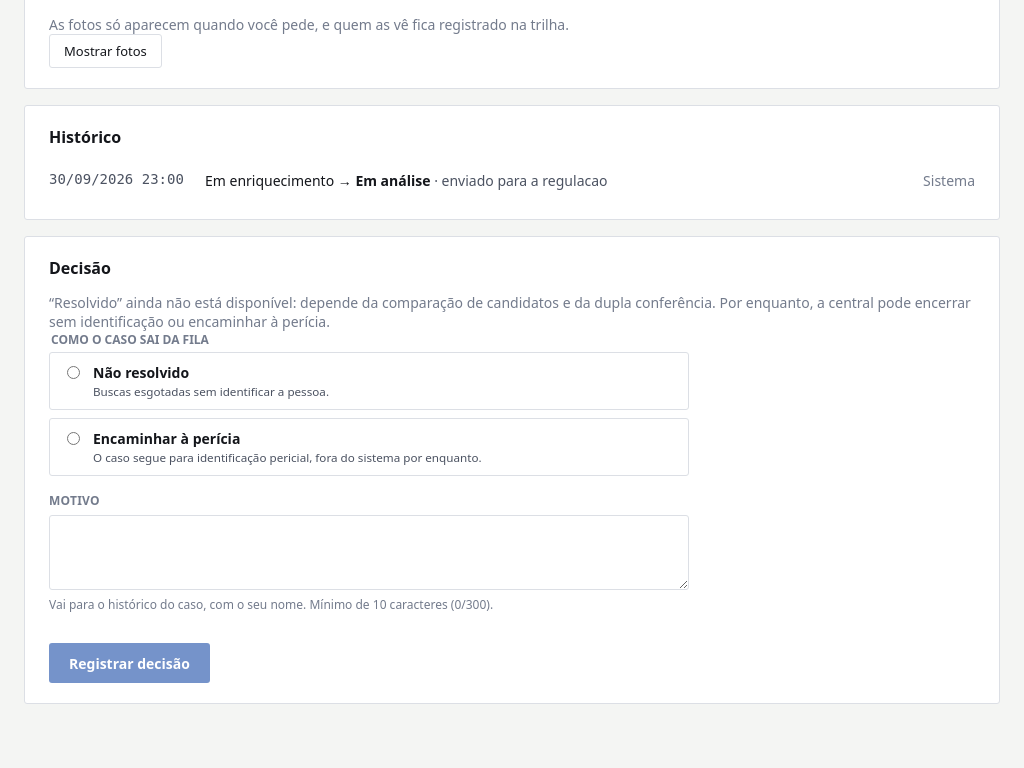
Test: tela do caso: decisão › (!) o botão só libera com decisão escolhida e motivo de pelo menos 10 caracteres
(page scrolled)
Expected: the button "Registrar decisão" is disabled, 49,643 -> 210,683
Click the radio button labelled "Encaminhar à perícia".
click(74, 438)  # box 67,432 -> 80,445
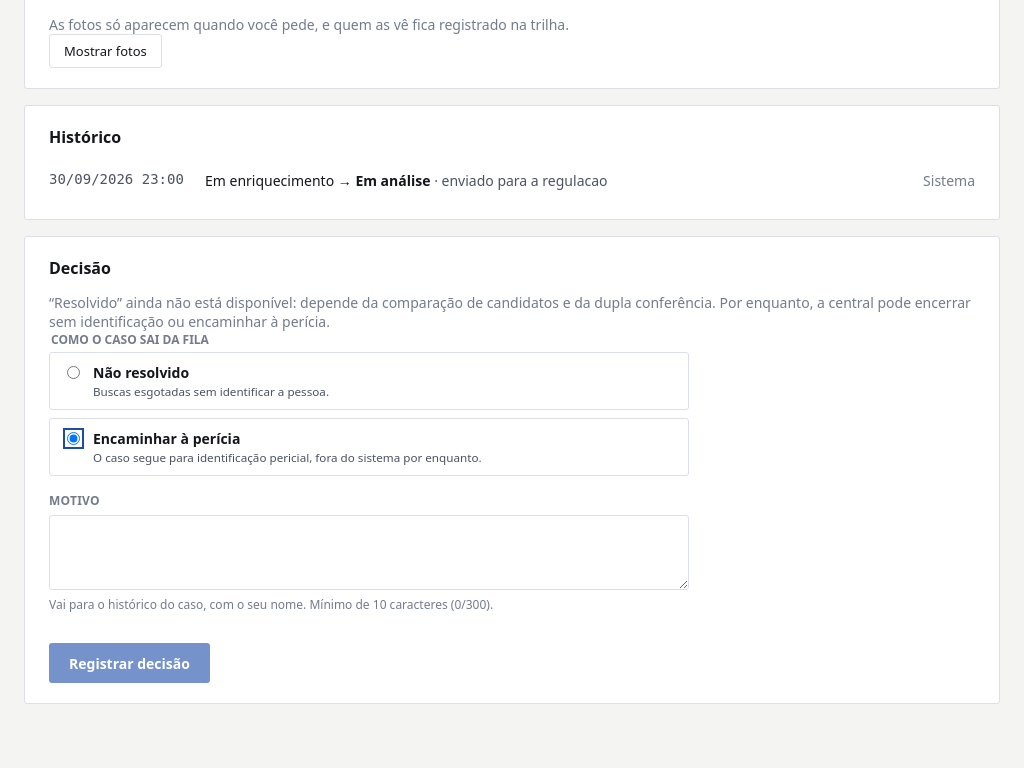
Type "curto" into the text box labelled "Motivo".
click(369, 552); type("curto")  # box 49,515 -> 689,590
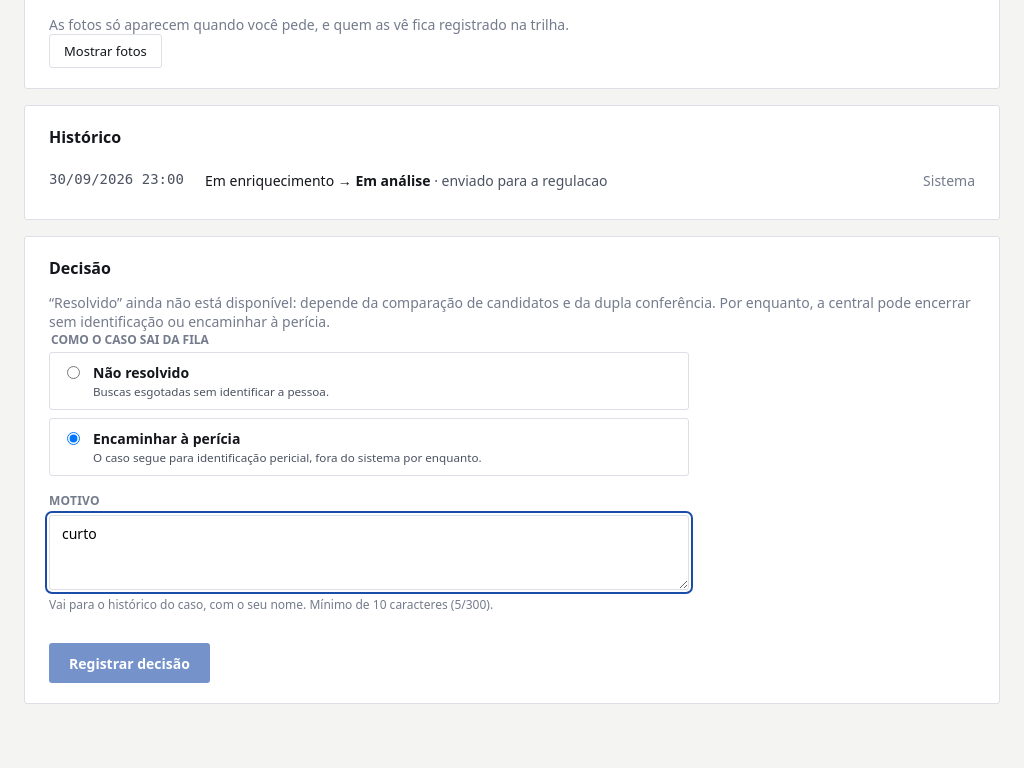
Expected: the button "Registrar decisão" is disabled, 49,643 -> 210,683
Type " demais, agora sim" into the text box labelled "Motivo".
click(369, 552); type(" demais, agora sim")  # box 49,515 -> 689,590
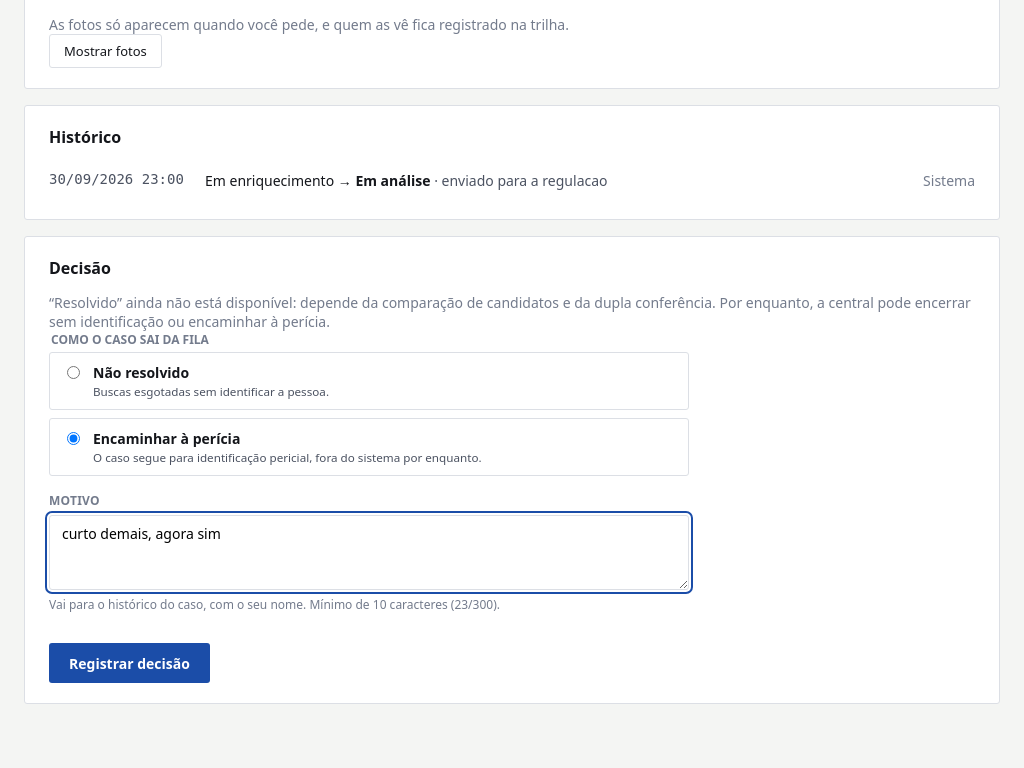
Expected: the button "Registrar decisão" is enabled, 49,643 -> 210,683
